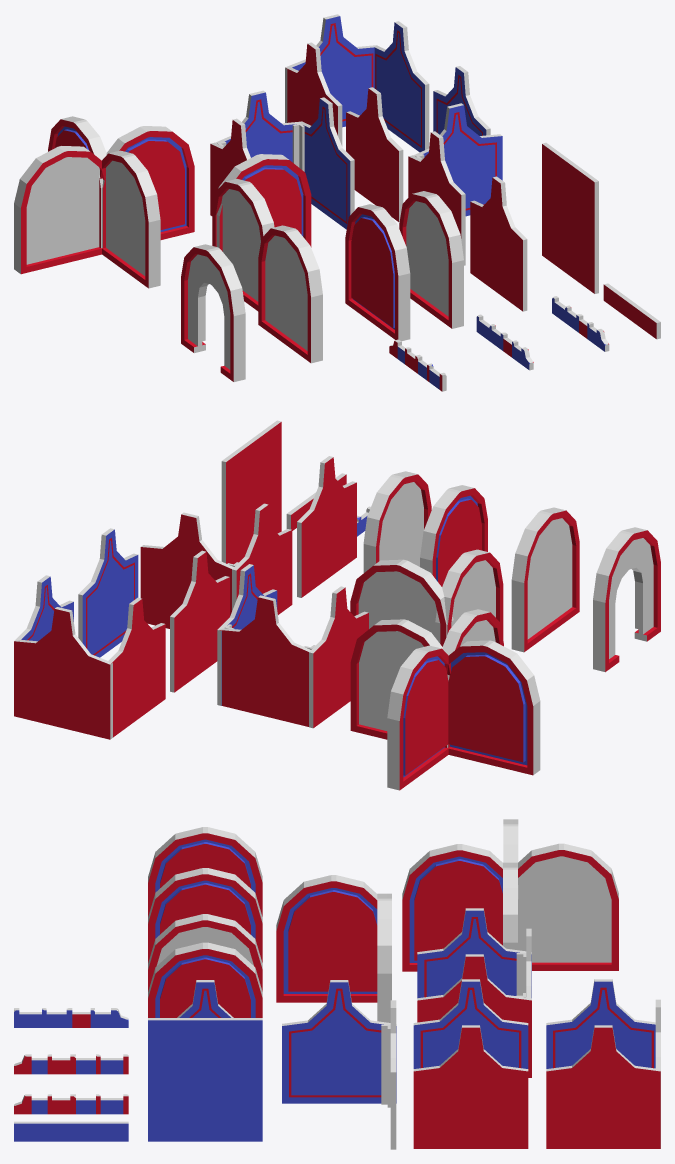
The model's file is Walls.glb.
3 renders of one model, top to bottom at view 1: azimuth 30°, elevation 25°; view 2: azimuth 150°, elevation 25°; view 3: azimuth 270°, elevation 25°, orthographic. The views are drawn at different scales.
Visible parts, largest first — view 1: idk_Wall-col, StoneHallA, HallEndB-col, end_HallA, Stone_Corner-col, Corner_A-col, Basic_Wall-col, HallB-col, Wall_B-convcol, Doorway_A-col, Wall_A-convcol, Short_Stone_Wall_B-col (+2 smaller); view 2: idk_Wall-col, HallEndB-col, end_HallA, StoneHallA, HallB-col, Stone_Corner-col, Corner_A-col, Doorway_A-col, Basic_Wall-col, Wall_A-convcol, Wall_B-convcol, Basic_Short_Wall-col; view 3: idk_Wall-col, HallEndB-col, HallB-col, Basic_Wall-col, Stone_Corner-col, Corner_A-col, StoneHallA, end_HallA, Wall_B-convcol, Doorway_A-col, Short_Stone_Wall_B-col, Basic_Short_Wall-col (+2 smaller).
Part boxes in pixels (box(x1,y1,x2,y2)): idk_Wall-col: box(14, 116, 194, 288); StoneHallA: box(258, 204, 410, 363); HallEndB-col: box(285, 14, 429, 152); end_HallA: box(210, 90, 354, 229); Stone_Corner-col: box(212, 154, 311, 311); Corner_A-col: box(408, 103, 502, 265); Basic_Wall-col: box(542, 142, 598, 293); HallB-col: box(346, 66, 490, 222); Wall_B-convcol: box(399, 191, 463, 328); Doorway_A-col: box(181, 244, 245, 381); Wall_A-convcol: box(470, 176, 527, 311); Short_Stone_Wall_B-col: box(389, 314, 533, 391); idk_Wall-col: box(350, 609, 540, 790); HallEndB-col: box(14, 575, 165, 739); end_HallA: box(217, 564, 368, 728); StoneHallA: box(420, 485, 579, 652); HallB-col: box(78, 528, 229, 692); Stone_Corner-col: box(350, 549, 503, 646); Corner_A-col: box(140, 503, 292, 628); Doorway_A-col: box(593, 527, 660, 672); Basic_Wall-col: box(221, 420, 281, 564); Wall_A-convcol: box(297, 456, 356, 597); Wall_B-convcol: box(363, 471, 431, 572); Basic_Short_Wall-col: box(286, 473, 346, 530); idk_Wall-col: box(402, 819, 618, 971); HallEndB-col: box(546, 979, 660, 1148); HallB-col: box(413, 979, 528, 1148); Basic_Wall-col: box(148, 1018, 262, 1141); Stone_Corner-col: box(276, 875, 391, 1022); Corner_A-col: box(282, 980, 396, 1149); StoneHallA: box(148, 868, 262, 991); end_HallA: box(417, 908, 531, 1077); Wall_B-convcol: box(148, 942, 262, 1017); Doorway_A-col: box(148, 827, 262, 916); Short_Stone_Wall_B-col: box(14, 1008, 128, 1074); Basic_Short_Wall-col: box(14, 1121, 128, 1141).
Bounding box in the file's own units: 56.33 × 14 × 67.73.
